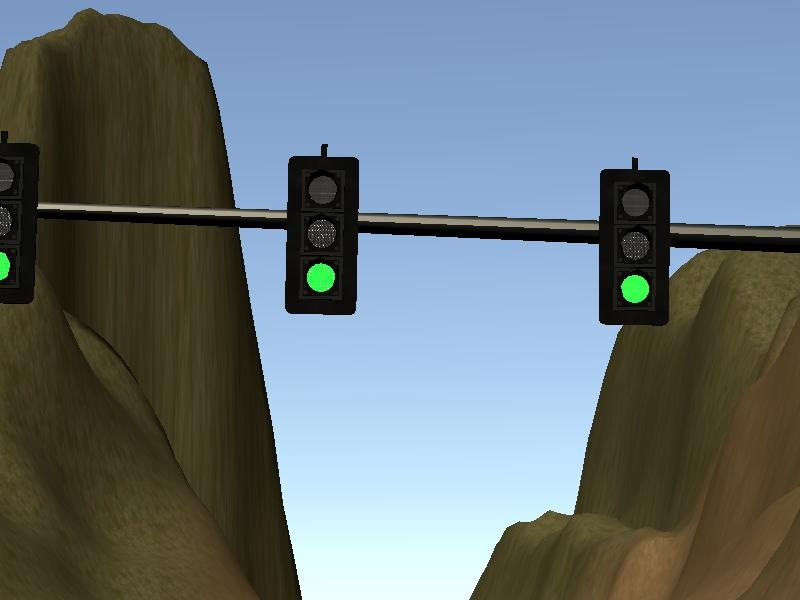GREEN: (285, 153, 359, 319), (596, 167, 672, 327)
